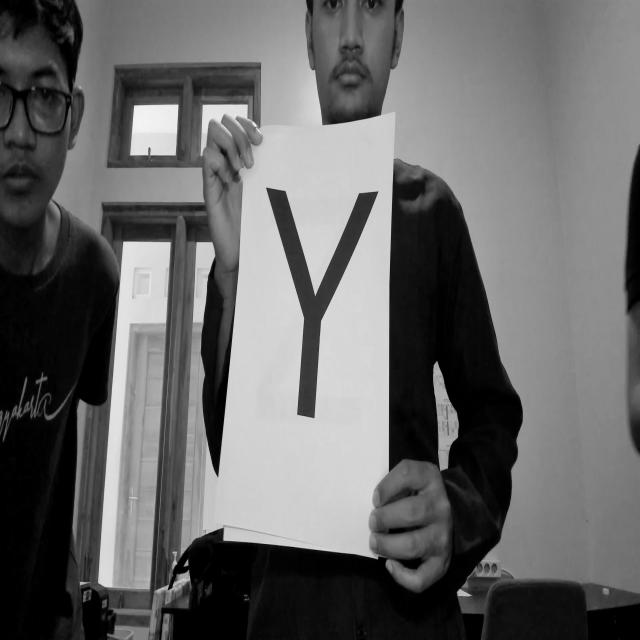y: (258, 170, 384, 430)
